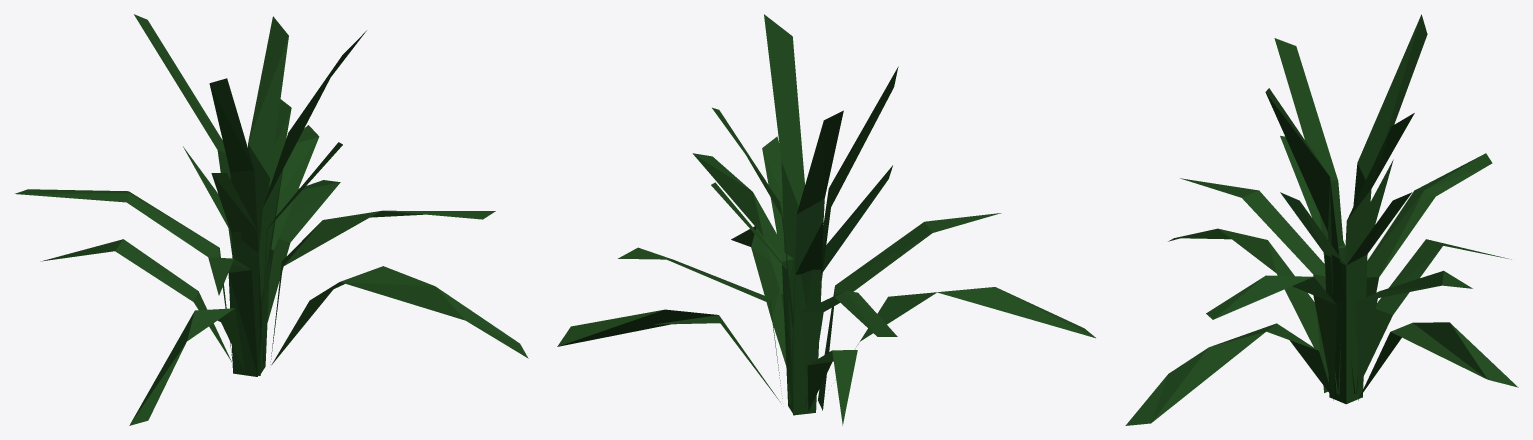
File: fern_a.glb
3 views of the same model, side by side, from view 1: azimuth 30°, elevation 25°; view 2: azimuth 150°, elevation 25°; view 3: azimuth 270°, elevation 25° (orthographic).
Visible parts, largest first — view 1: fern_a; view 2: fern_a; view 3: fern_a.
Part boxes in pixels (x1=…): fern_a: x1=15, y1=14, x2=528, y2=425; fern_a: x1=557, y1=14, x2=1095, y2=425; fern_a: x1=1125, y1=14, x2=1518, y2=425.
Size of the model in its own units: 1.09 by 0.9398 by 0.9659.
